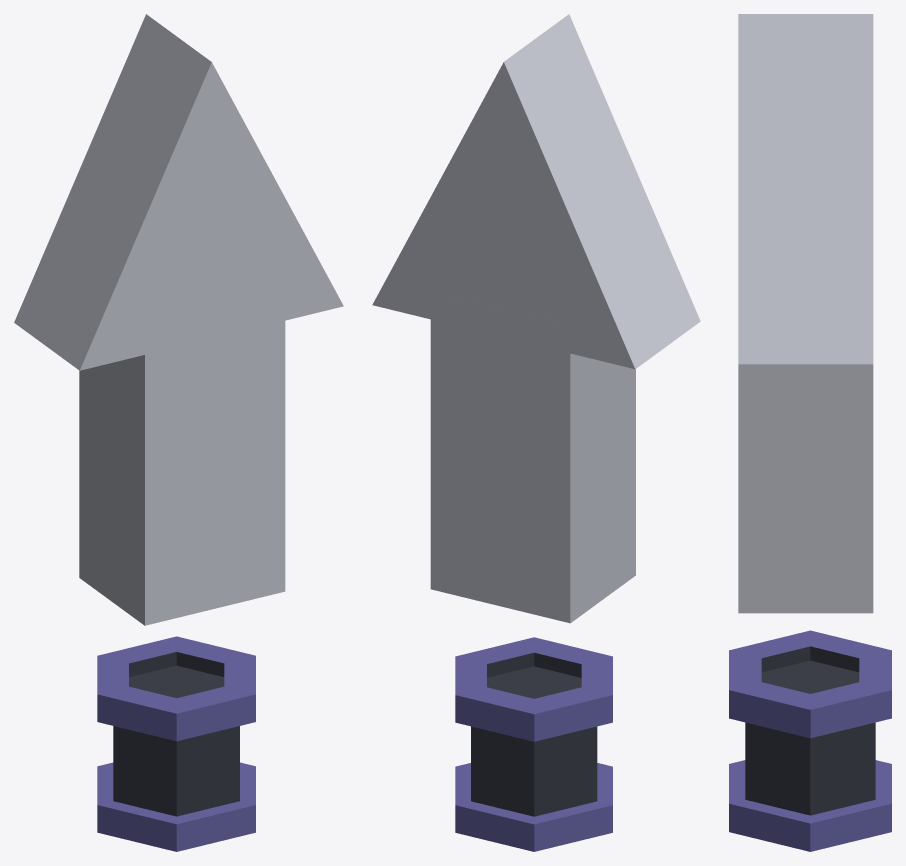
Rendered from SpeedBoost.fbx.
3 views of the same model, side by side, from view 1: azimuth 30°, elevation 25°; view 2: azimuth 150°, elevation 25°; view 3: azimuth 270°, elevation 25° (orthographic). The views are drawn at different scales.
Parts seen in each view (by area): view 1: blockTriangle, block, clipBarrel_small; view 2: blockTriangle, block, clipBarrel_small; view 3: blockTriangle, block, clipBarrel_small.
Part boxes in pixels (box(x1,y1,x2,y2)): blockTriangle: box(14, 14, 343, 370); block: box(79, 321, 285, 625); clipBarrel_small: box(97, 636, 255, 851); blockTriangle: box(372, 14, 700, 369); block: box(430, 292, 635, 623); clipBarrel_small: box(455, 637, 612, 851); blockTriangle: box(738, 14, 873, 364); block: box(738, 364, 873, 613); clipBarrel_small: box(729, 630, 891, 851).
Bounding box in the file's own units: 10 × 28.1 × 5.2.
